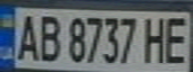3: (103, 13, 124, 64)
7: (81, 13, 106, 64), (118, 13, 142, 64)
8: (63, 12, 87, 63)
A: (9, 10, 42, 62)
B: (33, 11, 63, 62)
E: (160, 12, 193, 64)
H: (139, 13, 172, 64)
